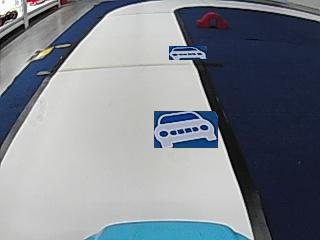bridge: (196, 12, 228, 28)
